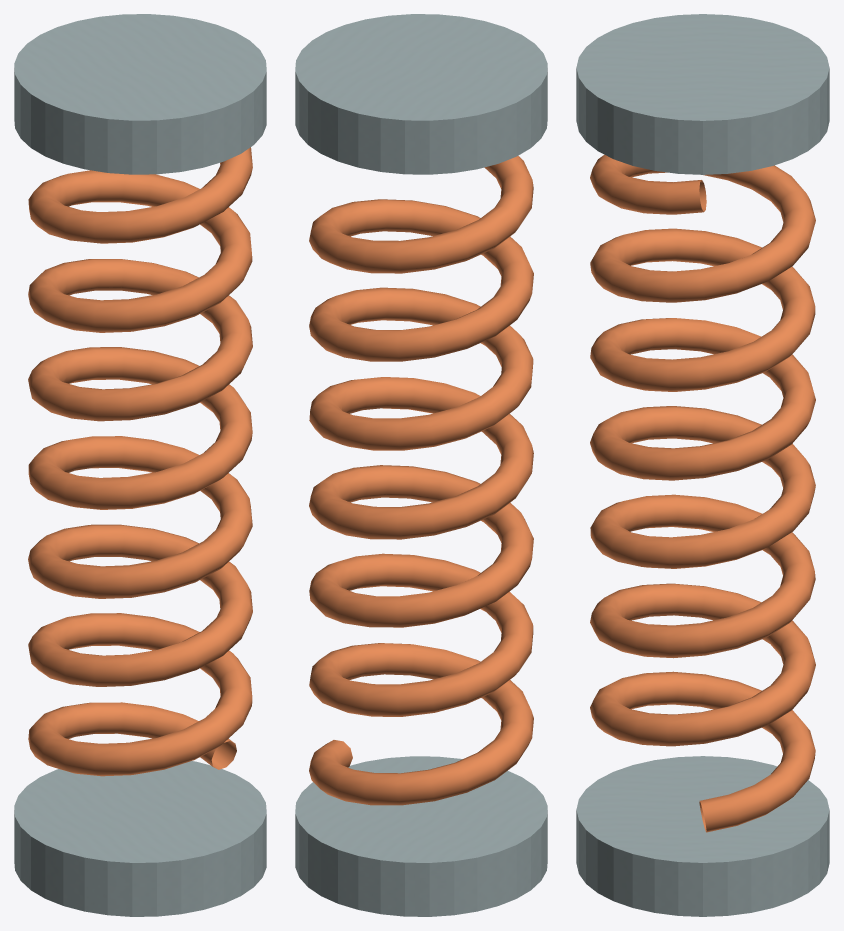
Rendered from spring.glb.
3 renders of one model, left to right at view 1: azimuth 30°, elevation 25°; view 2: azimuth 150°, elevation 25°; view 3: azimuth 270°, elevation 25°, orthographic.
Parts seen in each view (by area): view 1: Spring_Coil, Spring_Cap_Top, Spring_Cap_Bottom; view 2: Spring_Coil, Spring_Cap_Top, Spring_Cap_Bottom; view 3: Spring_Coil, Spring_Cap_Top, Spring_Cap_Bottom.
Part boxes in pixels (x1,y1,x2,y2): Spring_Coil: (28,147,252,776); Spring_Cap_Top: (14,14,266,174); Spring_Cap_Bottom: (14,761,266,916); Spring_Coil: (309,156,533,805); Spring_Cap_Top: (295,14,547,174); Spring_Cap_Bottom: (295,756,547,916); Spring_Coil: (590,154,815,832); Spring_Cap_Top: (576,14,829,174); Spring_Cap_Bottom: (576,756,829,916).
Bounding box in the file's own units: 0.34 × 1.18 × 0.34.
Materials: 3 (3 with a texture image).
